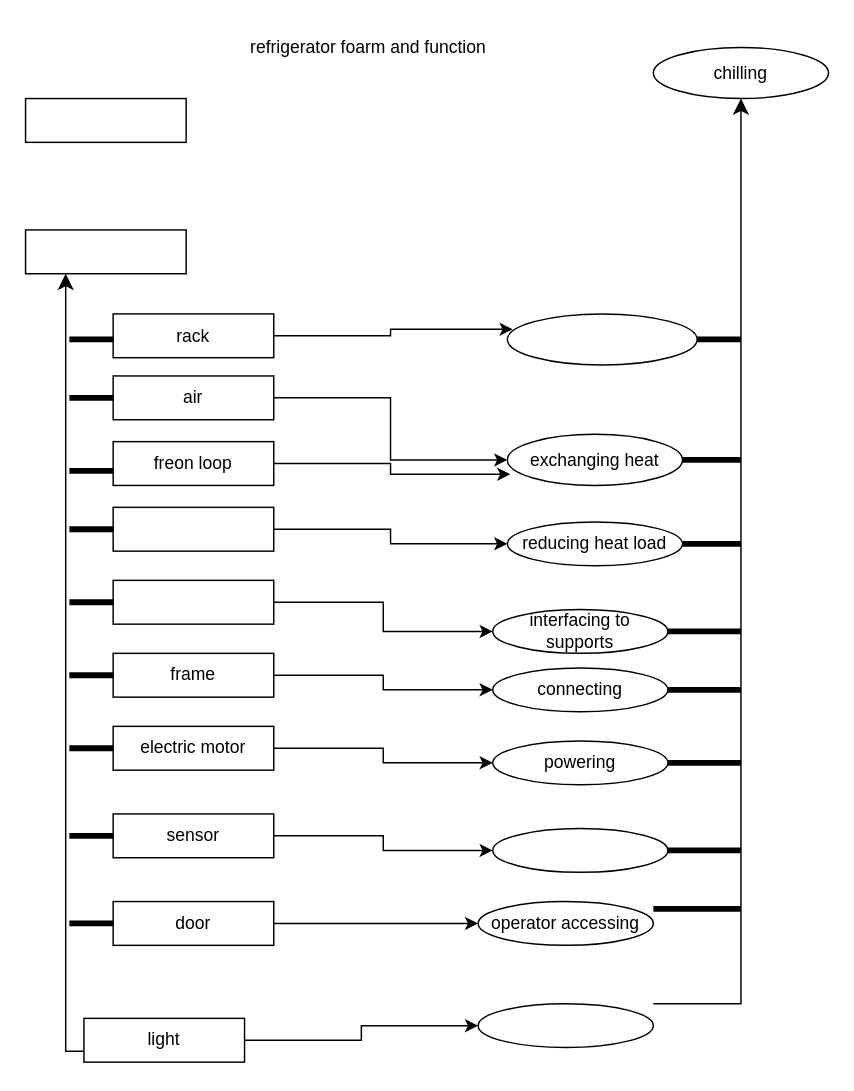
Image size: 854x1091. Some labels were removed from this diagram. Each missing label, with the centre of its shape:
chill: (105,119)
feet: (193,601)
hold food: (601,338)
insulation: (193,528)
operator oberserving: (565,1025)
refrigrator: (105,251)
regulating temper: (579,849)
